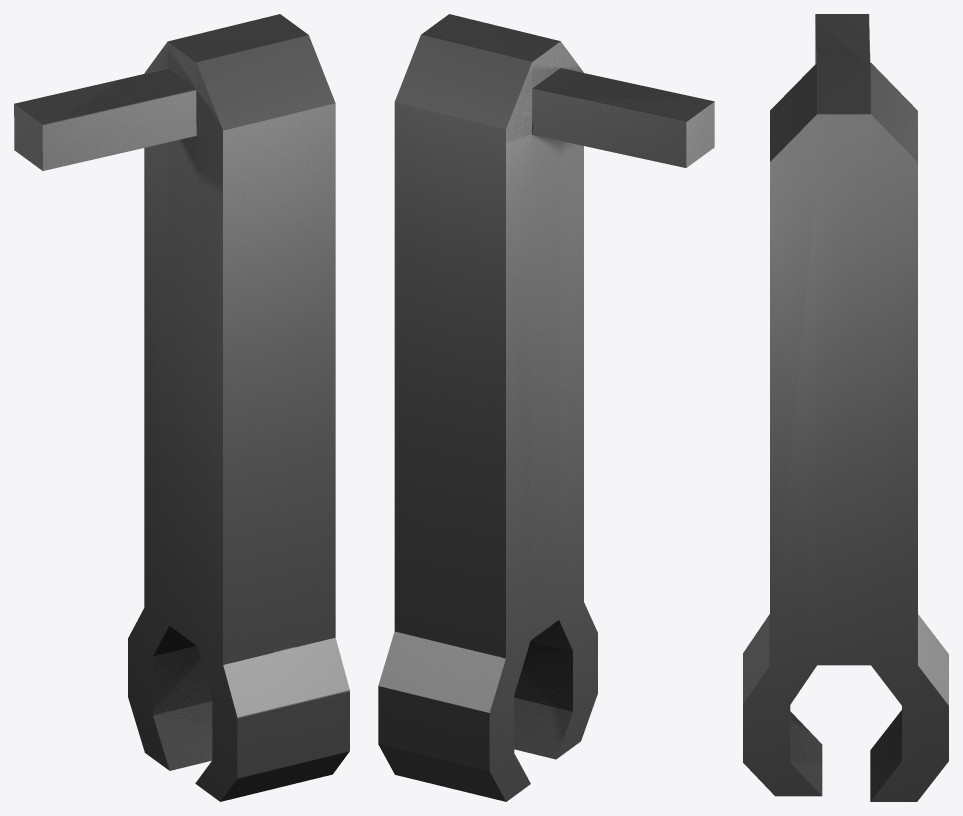
The model's file is robotarmright2.dae.
3 renders of one model, left to right at view 1: azimuth 30°, elevation 25°; view 2: azimuth 150°, elevation 25°; view 3: azimuth 270°, elevation 25°, orthographic. The views are drawn at different scales.
Parts seen in each view (by area): view 1: ArmRight; view 2: ArmRight; view 3: ArmRight.
Part boxes in pixels (left/top/right/bottom): ArmRight: left=14, top=14, right=349, bottom=801; ArmRight: left=378, top=14, right=714, bottom=801; ArmRight: left=743, top=14, right=948, bottom=801.
Size of the model in its own units: 0.9865 by 0.6953 by 2.56.
1 material, 1 textured.
